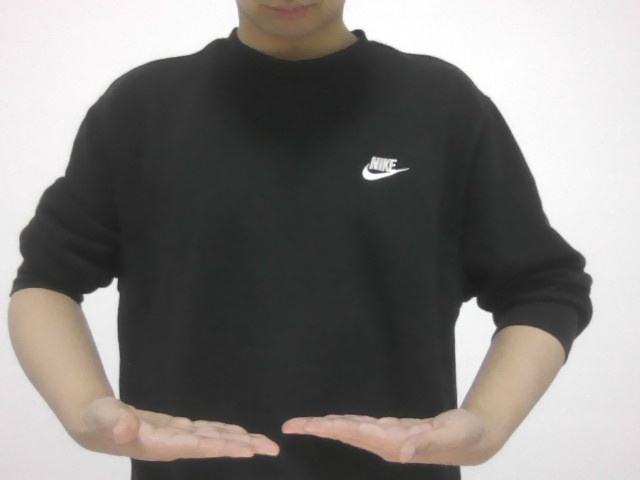today: (79, 374, 487, 480)
